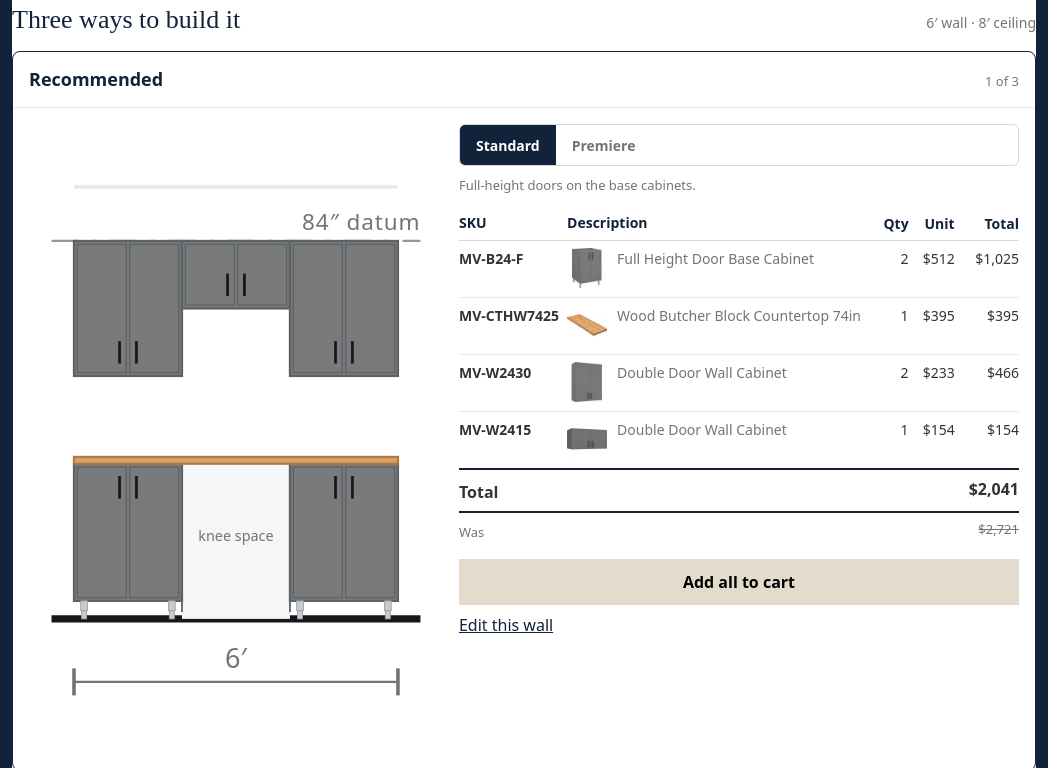
Test: adding to cart › adds nothing and says so when the store cannot map every SKU
The image size is (1048, 768).
Click the button "Add all to cart".
click(739, 582)  # box top-left (459, 559), bottom-right (1019, 605)
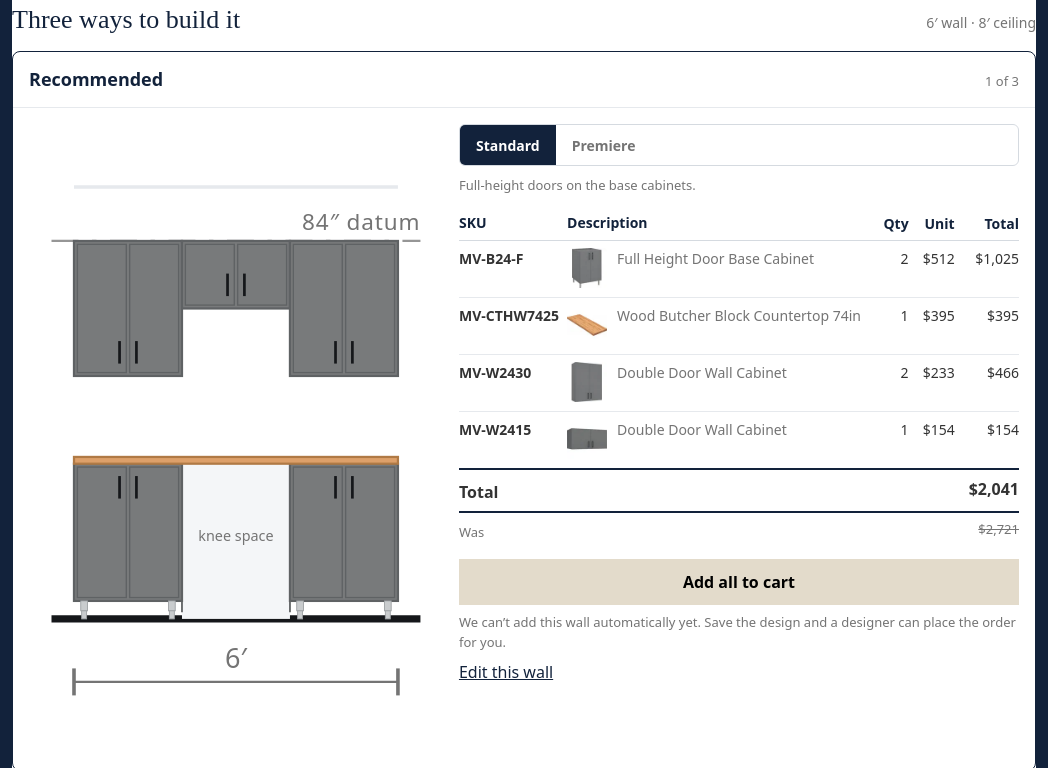
Check: the message shows "can’t add this wall automatically", box top-left (459, 613), bottom-right (1016, 650)
